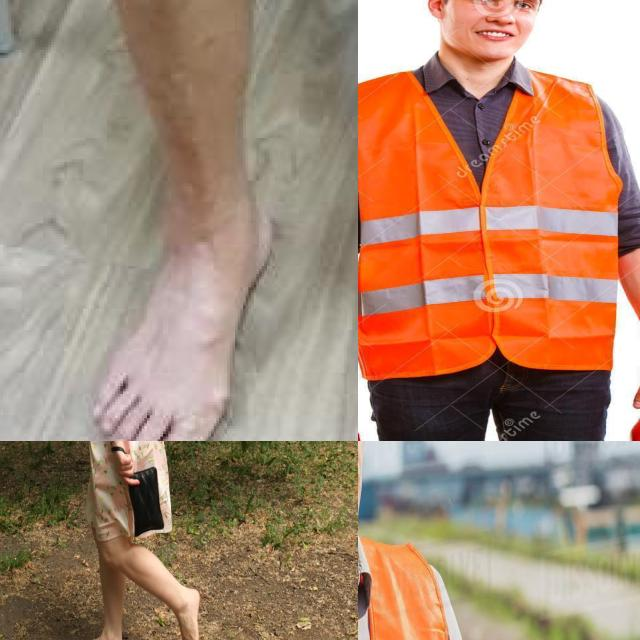Barefoots: (60, 193, 310, 441), (181, 588, 199, 640)
face_nomask: (441, 0, 545, 49)
hand_noglove: (625, 358, 640, 405)
person: (358, 0, 634, 441), (358, 441, 535, 640)
vest: (358, 59, 627, 375), (358, 527, 475, 640)
